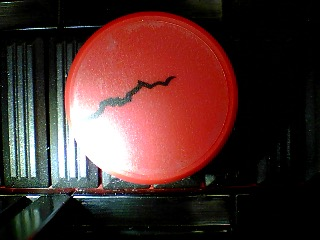CRACK: (63, 11, 239, 185)
